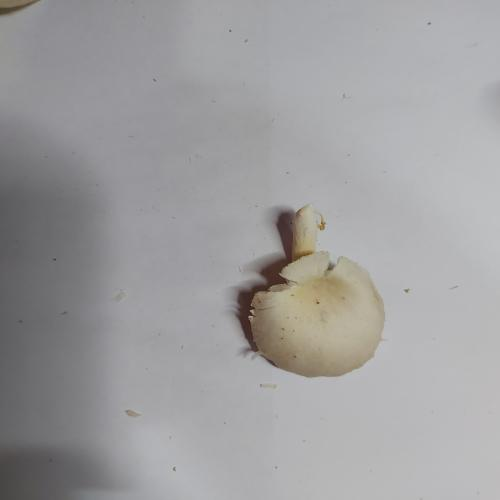Oyster Mushroom: (246, 203, 386, 378)
